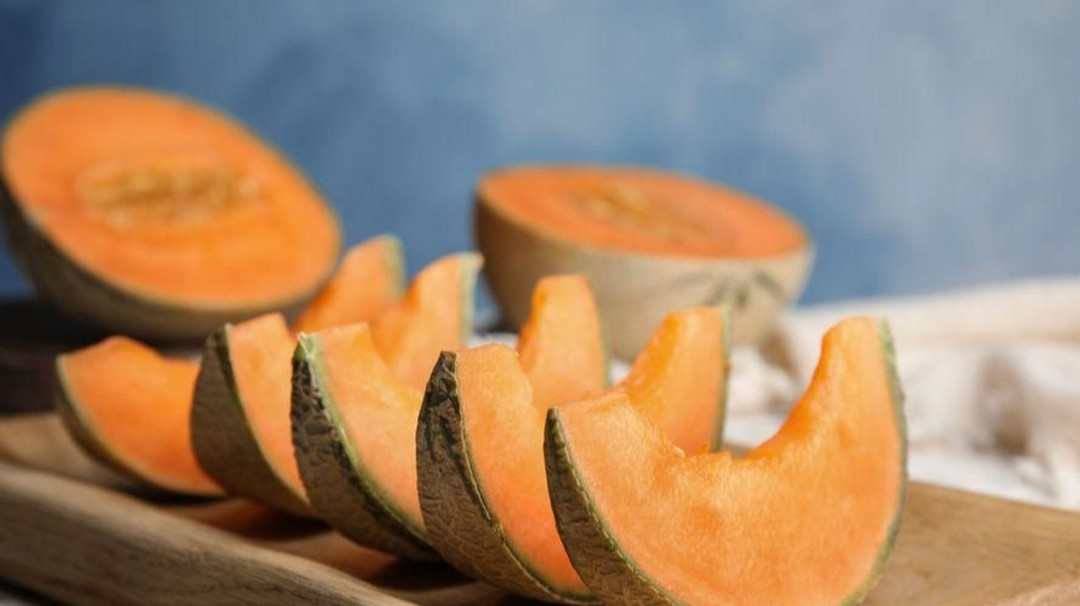Melon: (554, 295, 931, 596), (413, 344, 731, 583), (326, 262, 603, 488), (241, 238, 470, 464), (50, 346, 258, 493)
